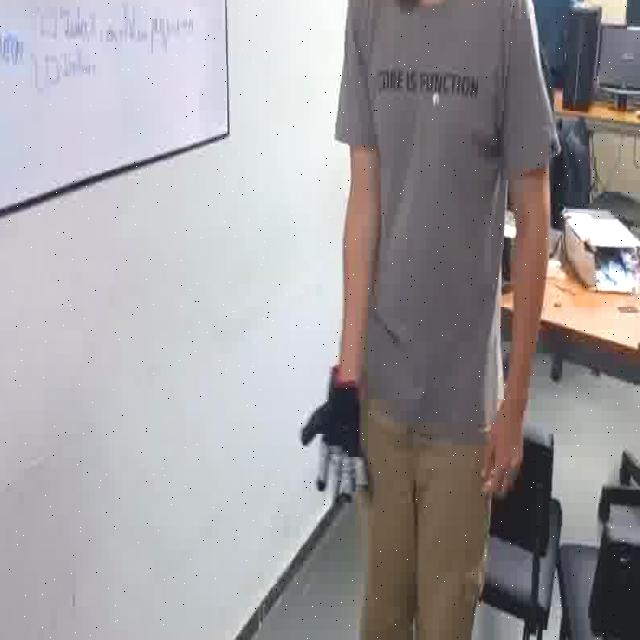Gloves: (291, 361, 378, 505)
